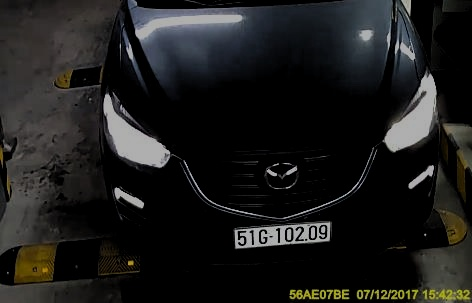plate: (231, 220, 333, 250)
